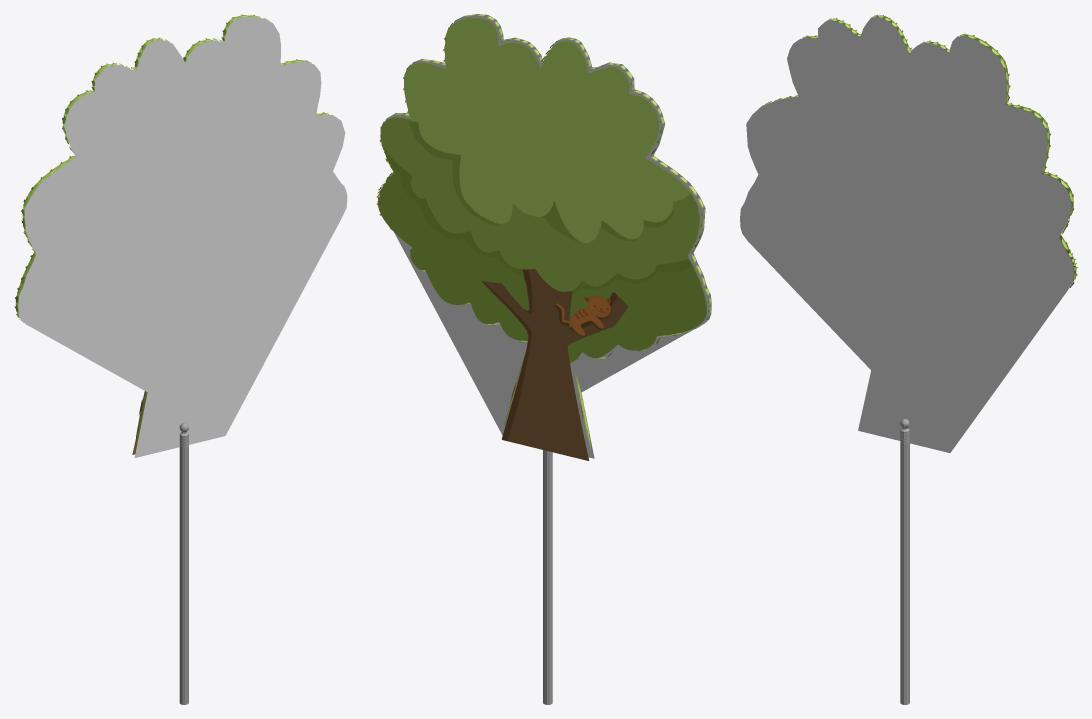
File: Arbolito.fbx
3 renders of one model, left to right at view 1: azimuth 30°, elevation 25°; view 2: azimuth 150°, elevation 25°; view 3: azimuth 330°, elevation 25°, orthographic.
Parts seen in each view (by area): view 1: polySurface12; view 2: polySurface12; view 3: polySurface12.
Part boxes in pixels (box(x1,y1,x2,y2)): polySurface12: box(14, 14, 347, 704); polySurface12: box(376, 14, 711, 704); polySurface12: box(740, 14, 1077, 704).
Bounding box in the file's own units: 13.21 × 25.68 × 0.5397.
